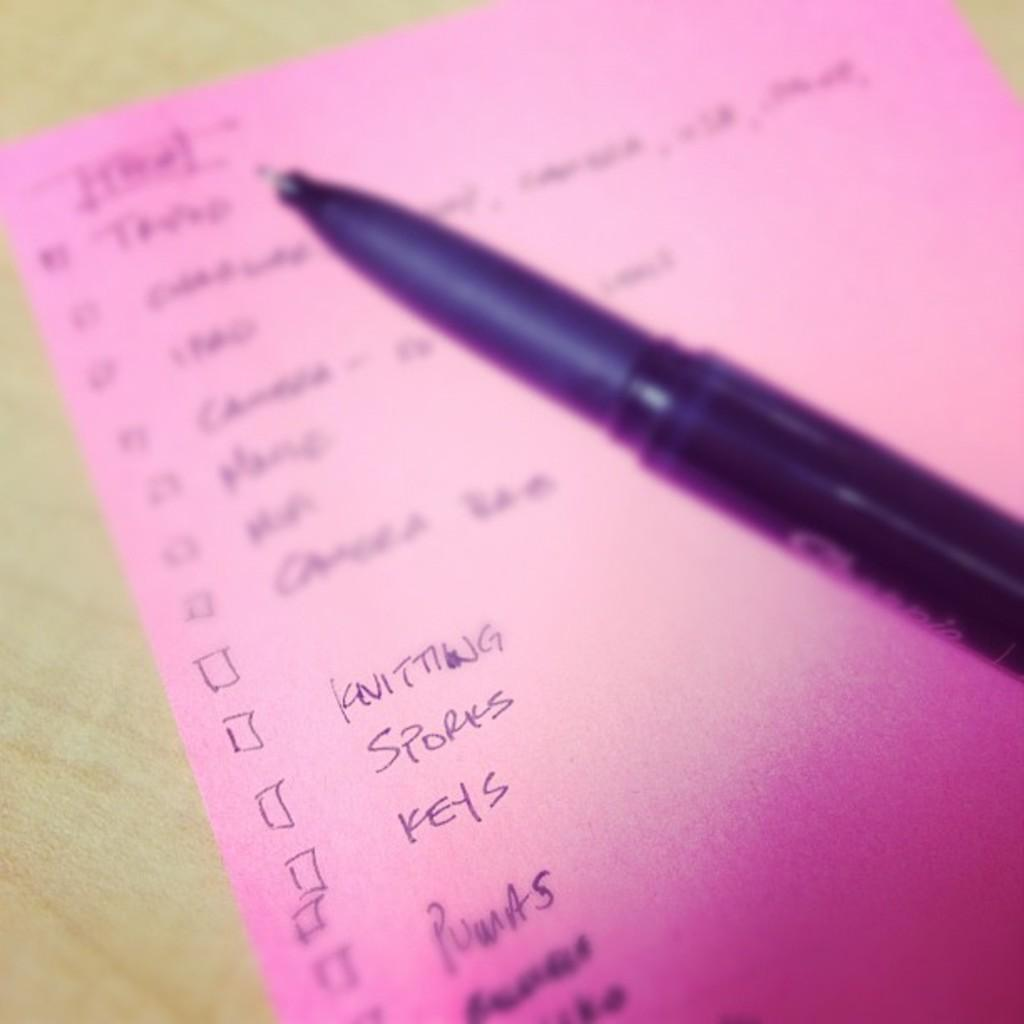pen: (276, 172, 1024, 671)
